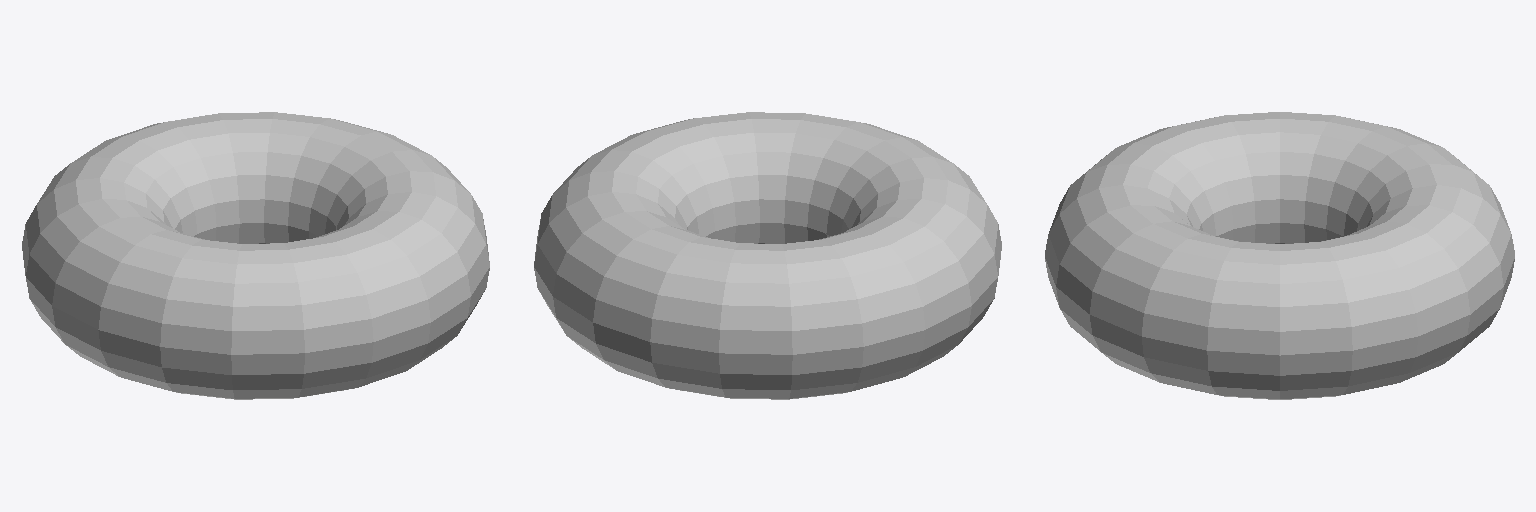
File: donut.obj
The picture shows the model from 3 angles: view 1: azimuth 30°, elevation 25°; view 2: azimuth 150°, elevation 25°; view 3: azimuth 270°, elevation 25°; orthographic projection.
Visible parts, largest first — view 1: donut; view 2: donut; view 3: donut.
Boxes of the visible parts, box(x1,y1,x2,y2) form: donut: box(22, 112, 489, 399); donut: box(534, 112, 1001, 399); donut: box(1045, 112, 1514, 399).
Bounding box in the file's own units: 9.07 × 3.02 × 9.07.